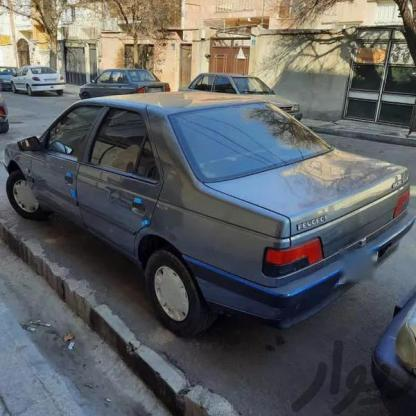Car: (0, 91, 416, 356), (184, 72, 313, 135), (84, 64, 162, 111), (1, 61, 69, 97)
